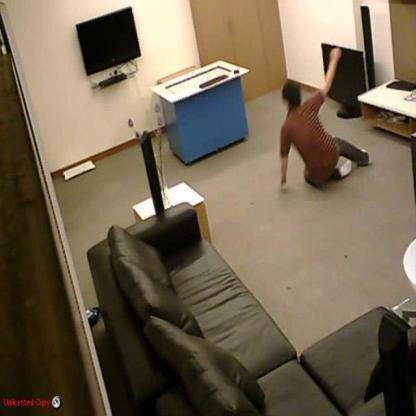Person: (278, 48, 375, 190)
